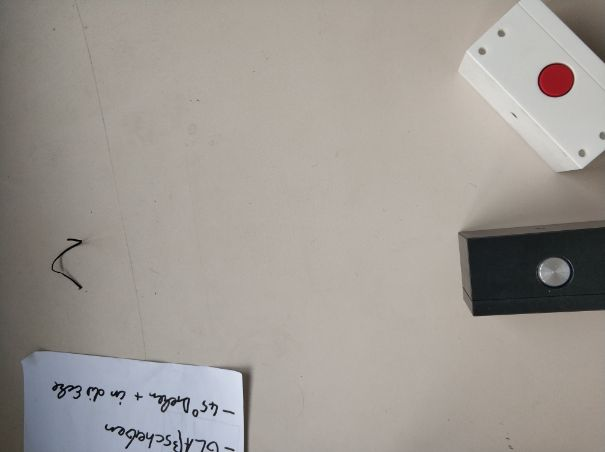black+black+silver: (455, 220, 605, 322)
white+white+red: (454, 2, 605, 178)
